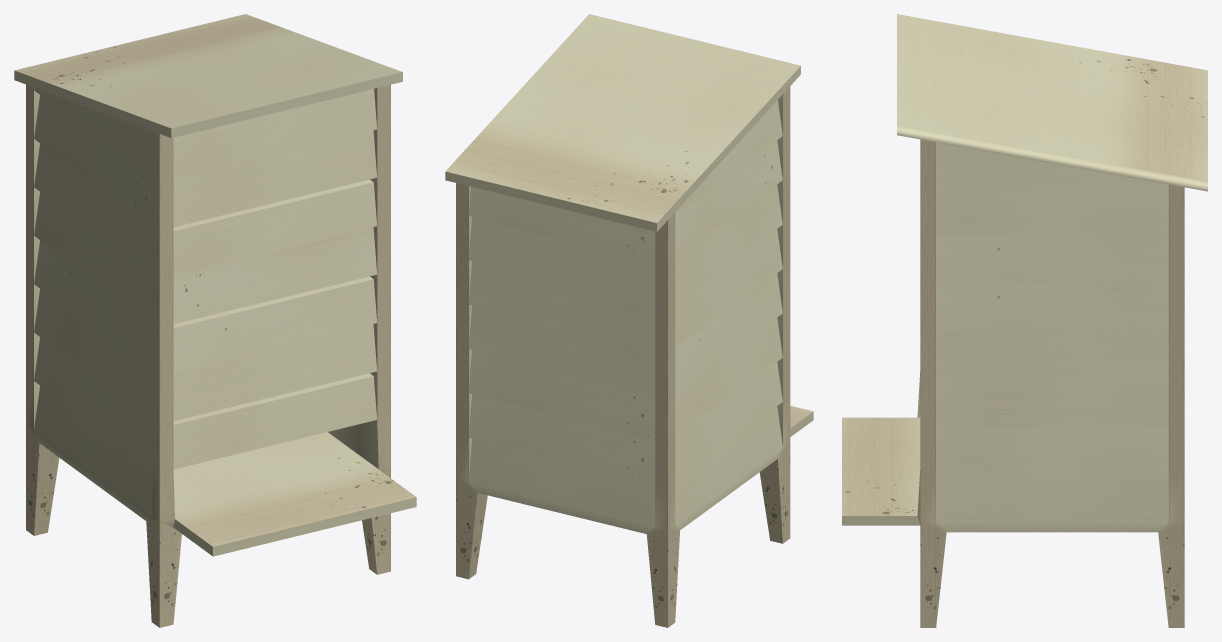
The model's file is BeeHive.fbx.
The picture shows the model from 3 angles, left to right: view 1: azimuth 30°, elevation 25°; view 2: azimuth 150°, elevation 25°; view 3: azimuth 270°, elevation 25°; orthographic projection. The views are drawn at different scales.
Visible parts, largest first — view 1: pasted__pPlane4; view 2: pasted__pPlane4; view 3: pasted__pPlane4.
Boxes of the visible parts, box(x1,y1,x2,y2) form: pasted__pPlane4: box(14, 14, 416, 627); pasted__pPlane4: box(445, 14, 813, 627); pasted__pPlane4: box(842, 14, 1207, 627).
Size of the model in its own units: 50 by 105 by 69.21.
